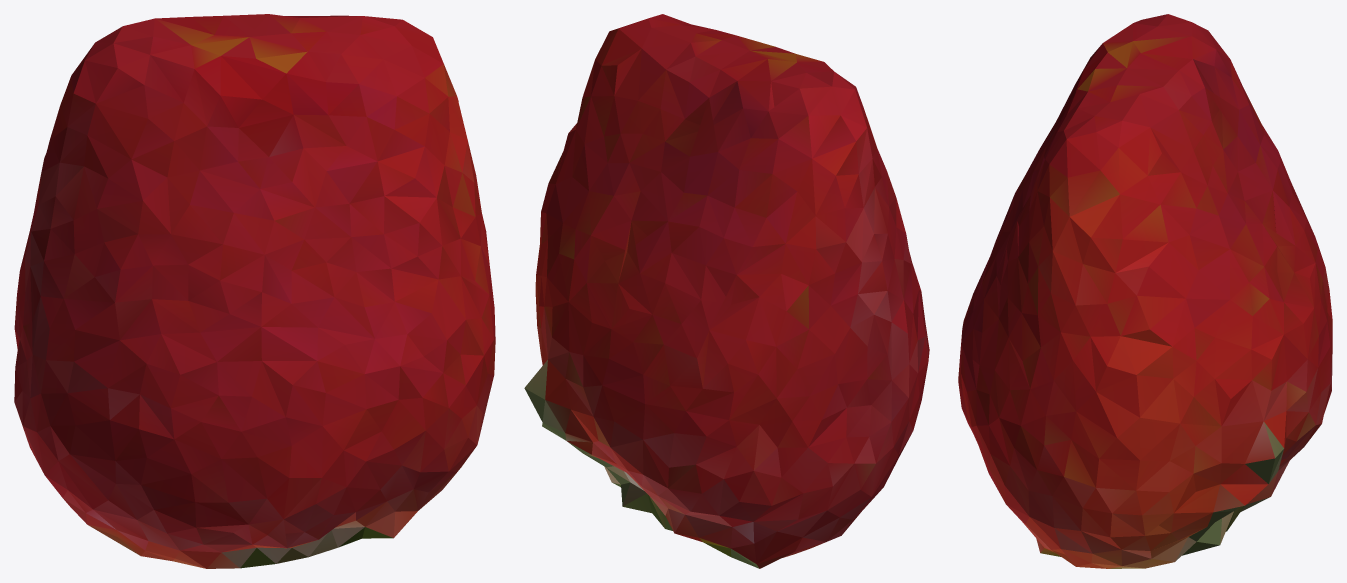
3 renders of one model, left to right at view 1: azimuth 30°, elevation 25°; view 2: azimuth 150°, elevation 25°; view 3: azimuth 270°, elevation 25°, orthographic. The views are drawn at different scales.
Visible parts, largest first — view 1: strawberry_04_visual; view 2: strawberry_04_visual; view 3: strawberry_04_visual.
Boxes of the visible parts, left/top/right/bottom form: strawberry_04_visual: left=14, top=14, right=495, bottom=568; strawberry_04_visual: left=524, top=14, right=929, bottom=568; strawberry_04_visual: left=958, top=14, right=1332, bottom=568.
Bounding box in the file's own units: 0.7232 × 0.6266 × 0.9023.
